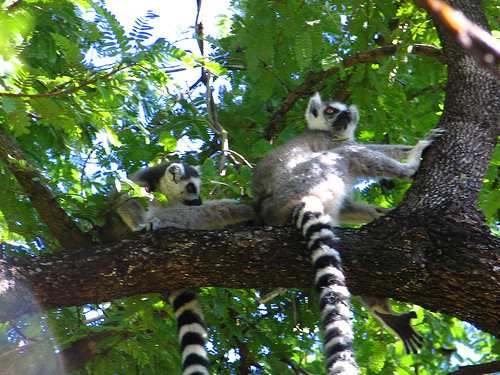cat: (248, 89, 449, 374), (97, 159, 207, 374)
